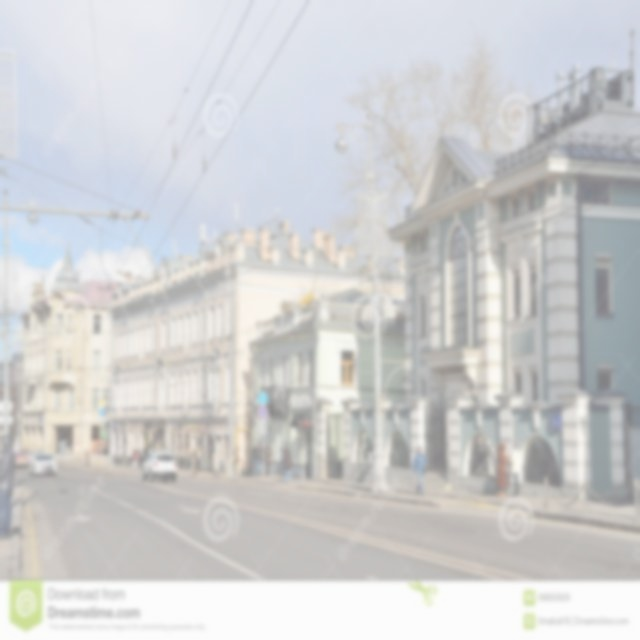pessoa: (0, 434, 16, 538), (507, 438, 524, 497), (412, 446, 428, 496), (496, 442, 510, 497), (252, 441, 263, 476), (282, 446, 292, 484), (263, 443, 273, 476), (191, 448, 199, 477), (143, 444, 150, 471), (141, 448, 148, 471), (231, 450, 236, 476), (132, 449, 138, 469), (84, 448, 90, 467), (98, 446, 102, 466), (64, 436, 68, 449), (138, 448, 142, 458), (94, 448, 98, 454)
